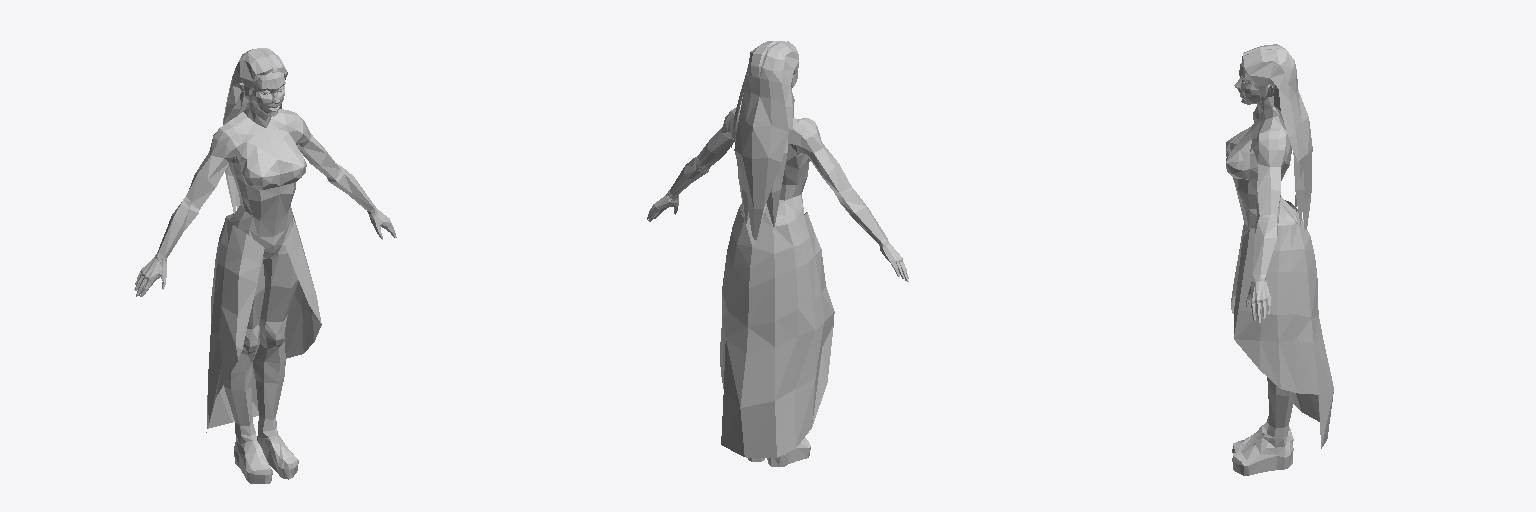
Rendered from girl.obj.
3 views of the same model, side by side, from view 1: azimuth 30°, elevation 25°; view 2: azimuth 150°, elevation 25°; view 3: azimuth 270°, elevation 25° (orthographic).
Visible parts, largest first — view 1: Plane.001_Plane.007, Plane.003_Plane.008, capelli.001_Plane.006; view 2: Plane.003_Plane.008, capelli.001_Plane.006, Plane.001_Plane.007; view 3: Plane.003_Plane.008, Plane.001_Plane.007, capelli.001_Plane.006.
Boxes of the visible parts, x1,y1,x2,y2 form: Plane.001_Plane.007: [134, 59, 396, 483]; Plane.003_Plane.008: [206, 212, 321, 432]; capelli.001_Plane.006: [223, 48, 287, 213]; Plane.003_Plane.008: [720, 204, 834, 457]; capelli.001_Plane.006: [731, 41, 798, 239]; Plane.001_Plane.007: [647, 43, 908, 466]; Plane.003_Plane.008: [1231, 200, 1333, 448]; Plane.001_Plane.007: [1226, 51, 1297, 475]; capelli.001_Plane.006: [1242, 44, 1312, 229].
Size of the model in its own units: 29.25 by 44.82 by 10.54.